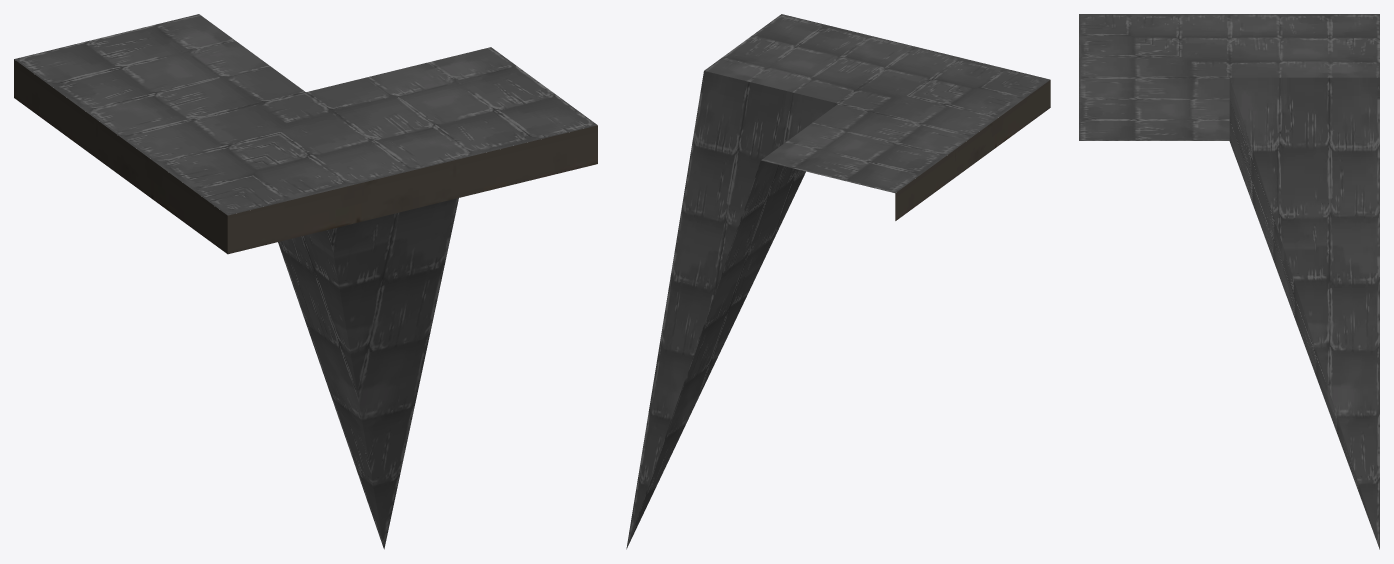
Rendered from Roof_Slate_InnerCorner.glb.
The picture shows the model from 3 angles, left to right: view 1: azimuth 30°, elevation 25°; view 2: azimuth 150°, elevation 25°; view 3: azimuth 270°, elevation 25°; orthographic projection. The views are drawn at different scales.
Parts seen in each view (by area): view 1: Roof_Slate_InnerCorner; view 2: Roof_Slate_InnerCorner; view 3: Roof_Slate_InnerCorner.
Boxes of the visible parts, x1=… form: Roof_Slate_InnerCorner: x1=14, y1=14, x2=597, y2=549; Roof_Slate_InnerCorner: x1=626, y1=14, x2=1050, y2=549; Roof_Slate_InnerCorner: x1=1079, y1=14, x2=1379, y2=549.
Bounding box in the file's own units: 2 × 3 × 2.
2 materials, 2 textured.
